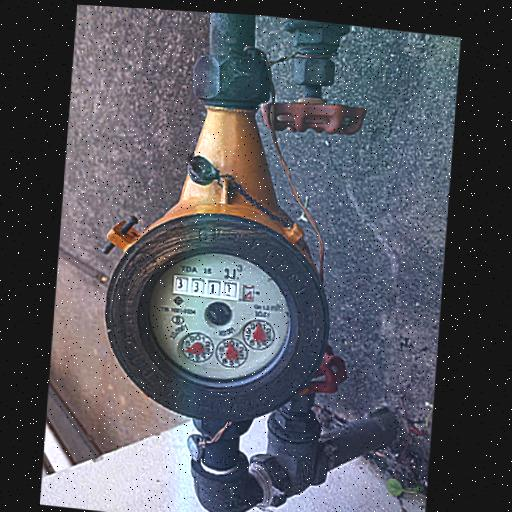1: (207, 280, 221, 296), (224, 282, 238, 298)
3: (175, 277, 189, 293), (191, 279, 205, 294)
4: (242, 285, 254, 301)
border_water_meter_number: (172, 275, 256, 303)
